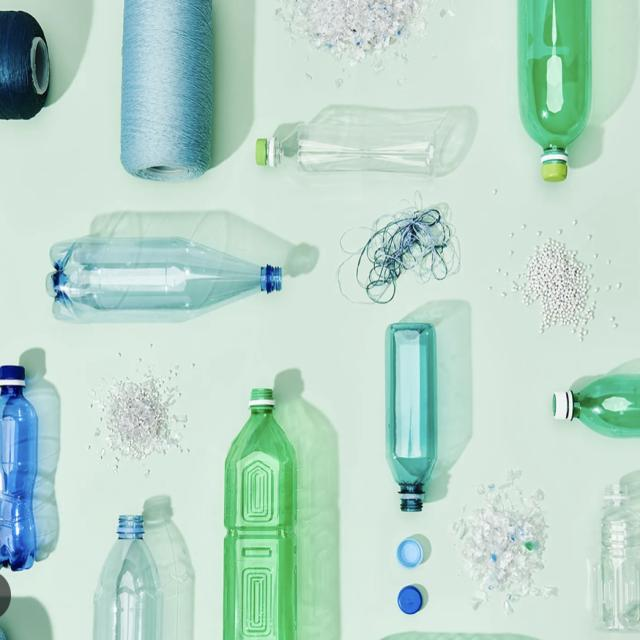recyclable: (42, 205, 295, 332), (209, 367, 319, 640), (235, 91, 492, 193), (504, 0, 608, 186), (368, 310, 457, 520), (386, 535, 434, 580)
